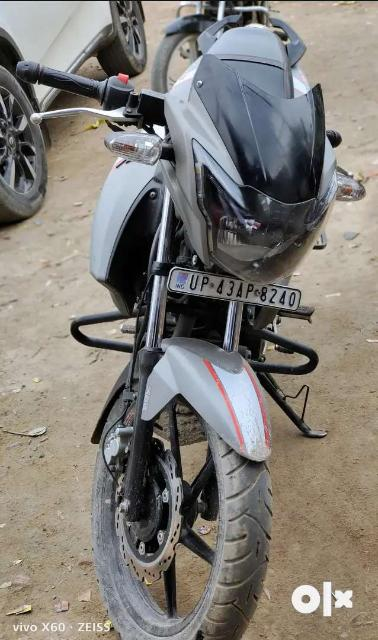Indian_Number_Plate: (169, 269, 299, 311)
